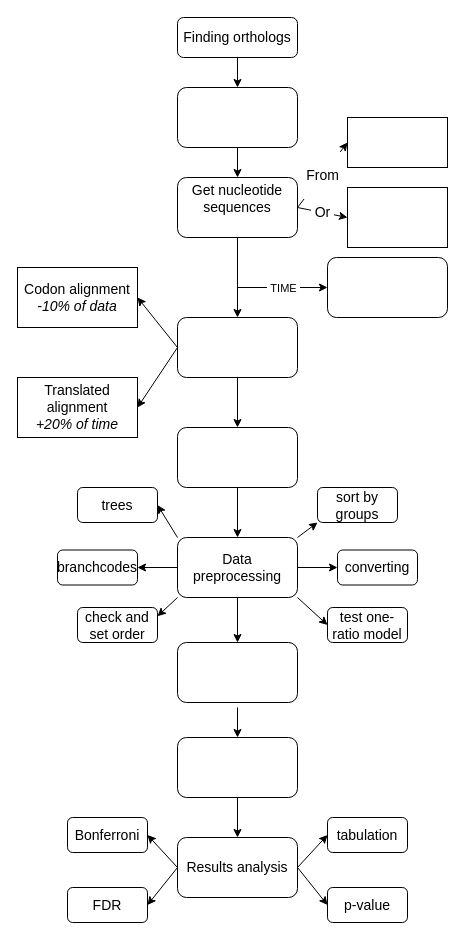
This 465x940 diagram has some shape labels left out. Here are the shapes that lost their labels. From the top down, the box of each, then its label:
(176, 86, 298, 148): Set parameter for species groups
(346, 116, 448, 168): cds refseq
(346, 186, 448, 248): Genbank annotation
(326, 256, 448, 318): Guidance and PRANK alignment
(176, 316, 298, 378): PRANK alignment
(176, 426, 298, 488): Gblocks filter: Selection of conserved blocks
(176, 642, 298, 702): SWAMP masking
(176, 736, 298, 798): PAML evolutionary analysis
